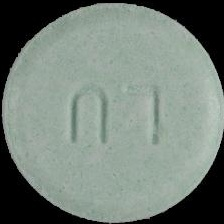54868-4774: (0, 0, 224, 224)
